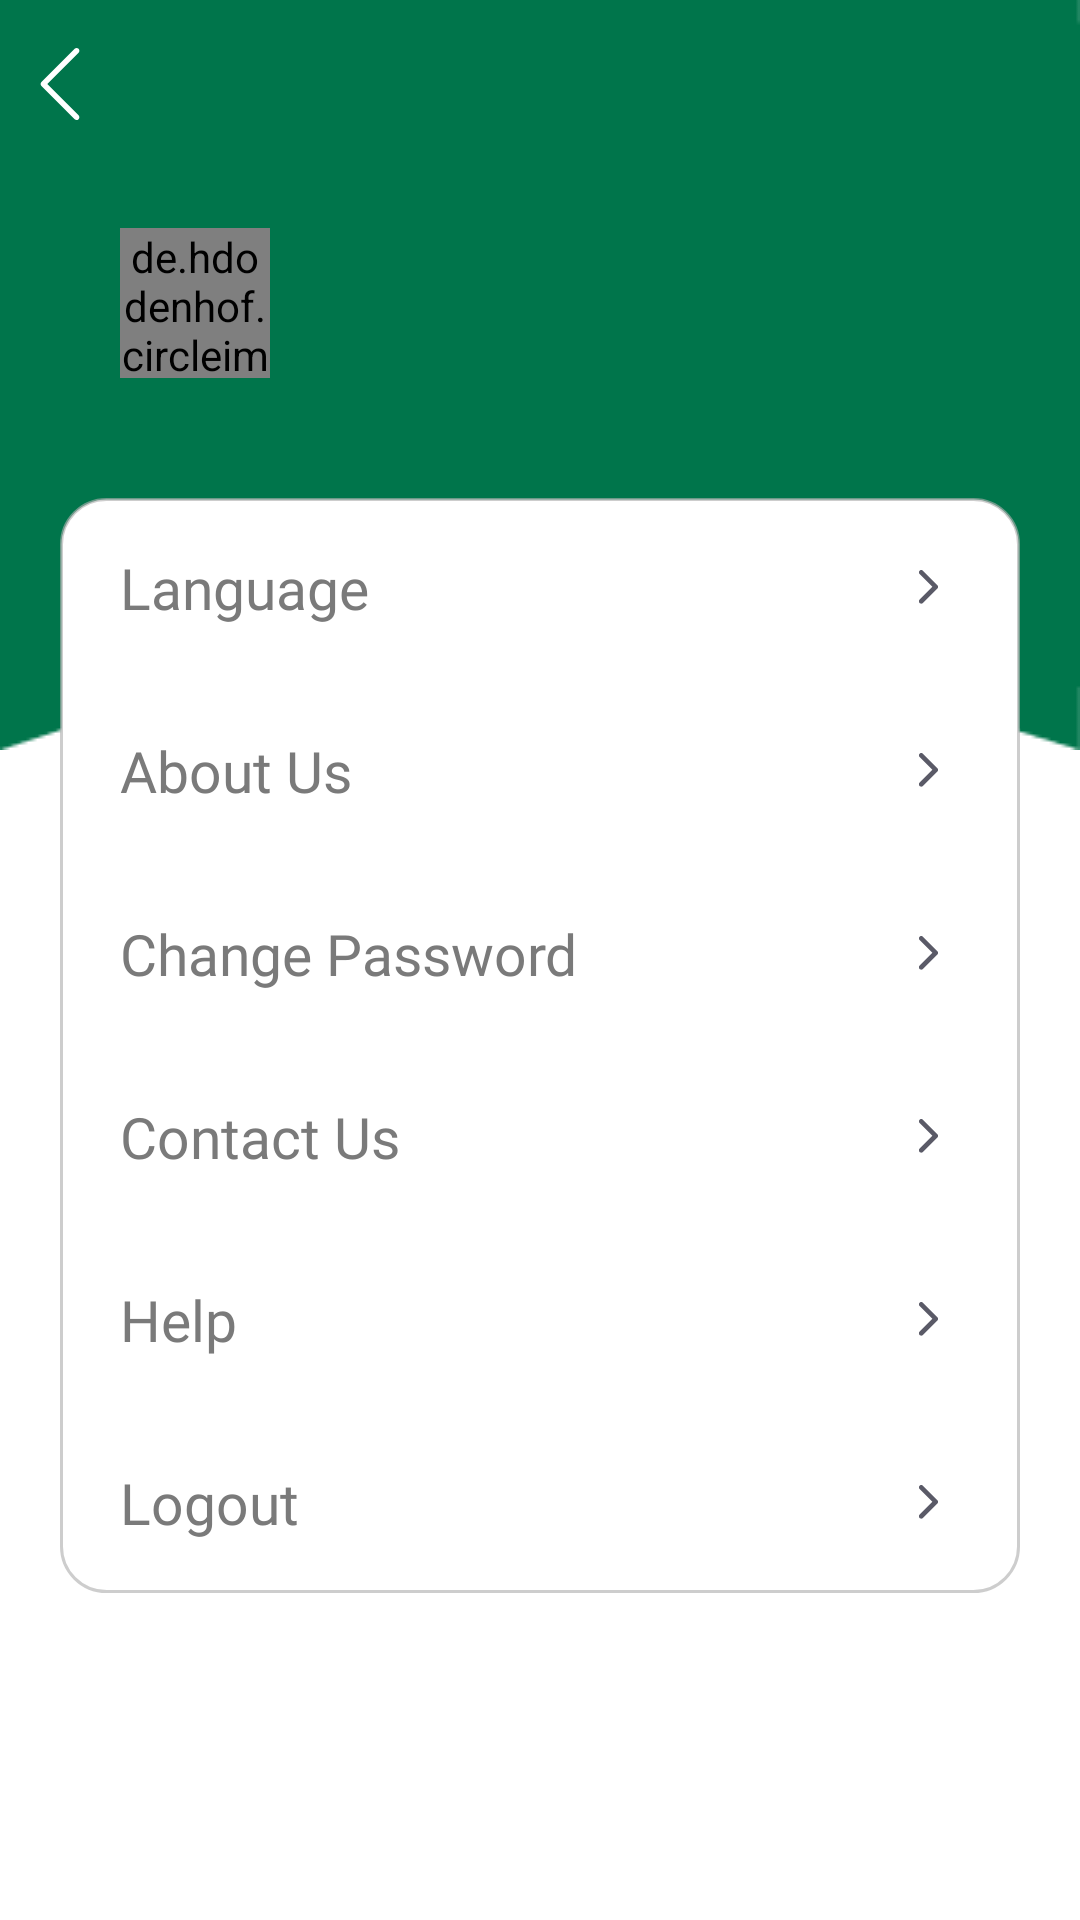

Where to tap for icons on this 1080×1920 app screen, as (x=x, y=y):
backpressed: (x=60, y=84)
